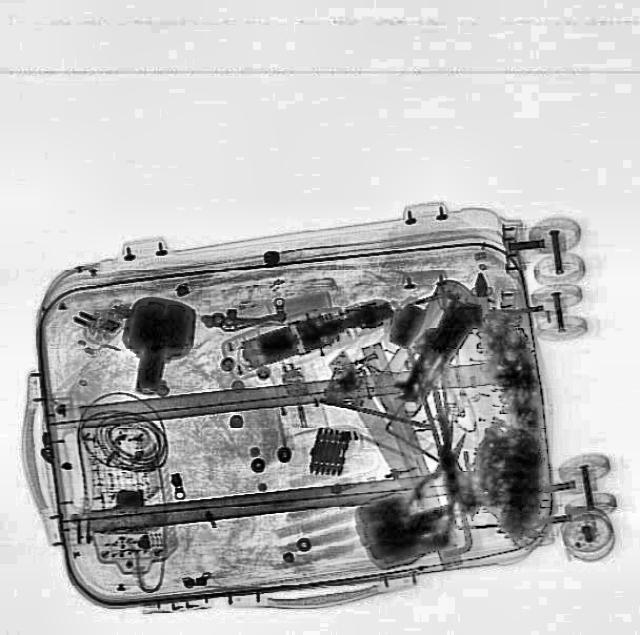Pliers: (406, 416, 488, 518)
